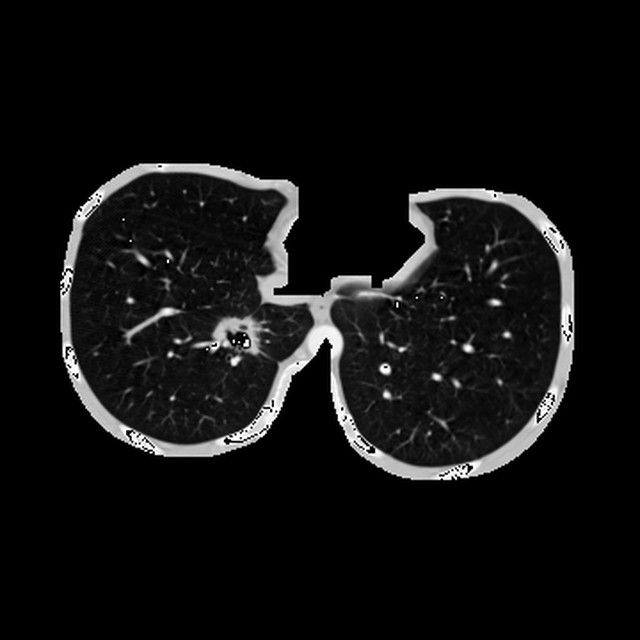PN: (220, 315, 256, 350)
